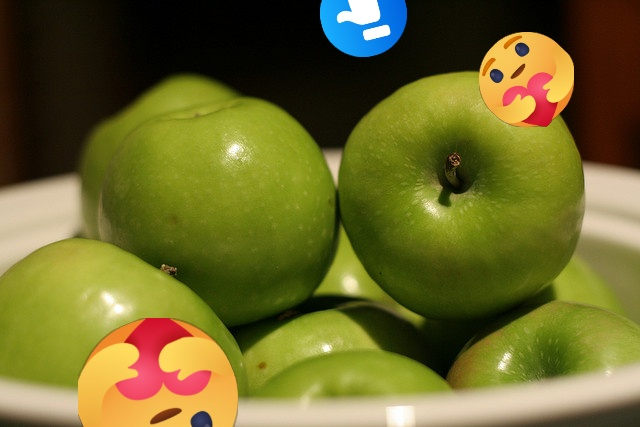care: (78, 318, 238, 427), (479, 32, 574, 127)
like: (320, 0, 407, 57)
